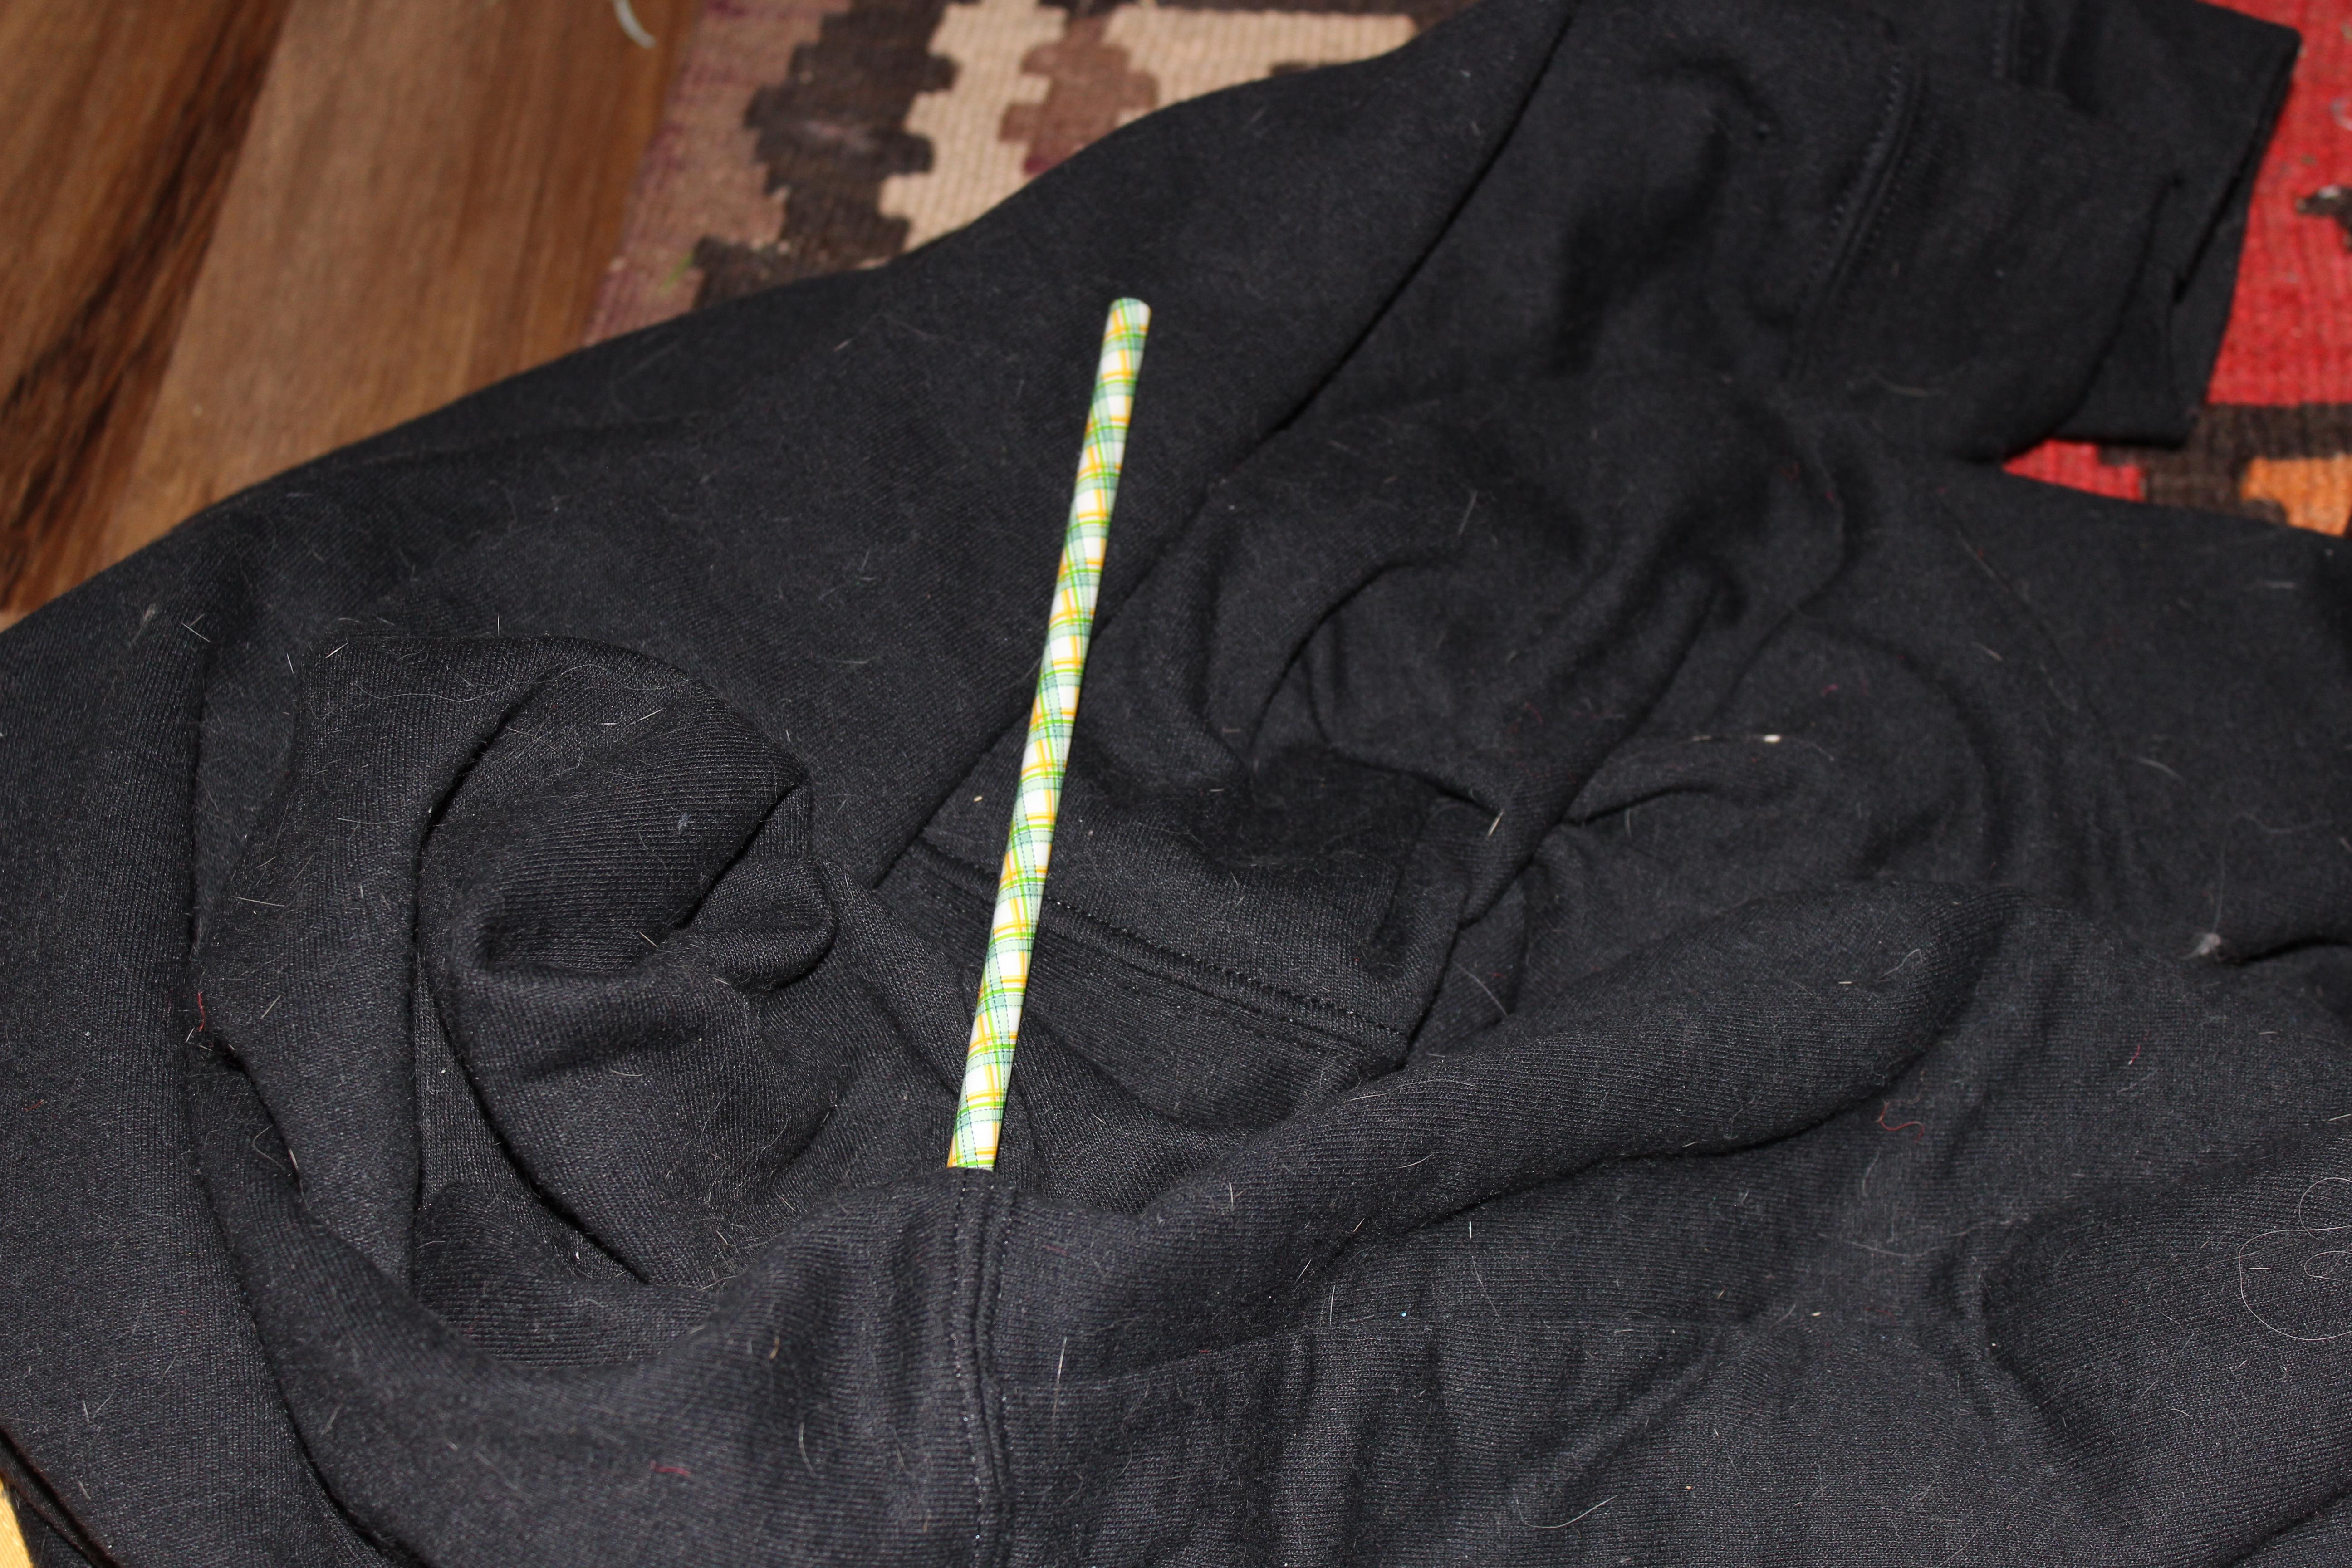plaidPencil: (914, 266, 1169, 1202)
